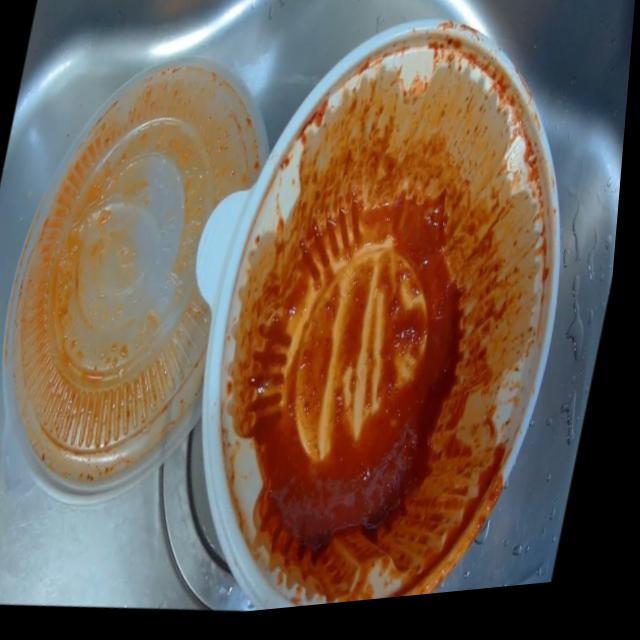container: (133, 0, 577, 629)
